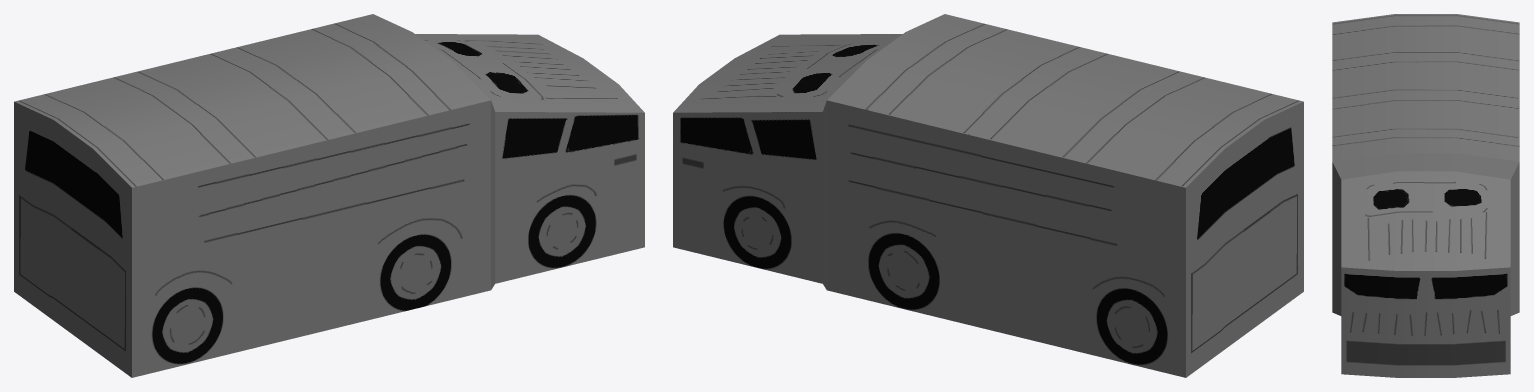
File: Car2.fbx
3 views of the same model, side by side, from view 1: azimuth 30°, elevation 25°; view 2: azimuth 150°, elevation 25°; view 3: azimuth 270°, elevation 25° (orthographic). The views are drawn at different scales.
Visible parts, largest first — view 1: Mesh_Car2; view 2: Mesh_Car2; view 3: Mesh_Car2.
Part boxes in pixels (x1,y1,x2,y2): Mesh_Car2: (14,14,644,377); Mesh_Car2: (673,14,1303,377); Mesh_Car2: (1332,14,1519,377).
Bounding box in the file's own units: 3.69 × 1.34 × 1.43.
